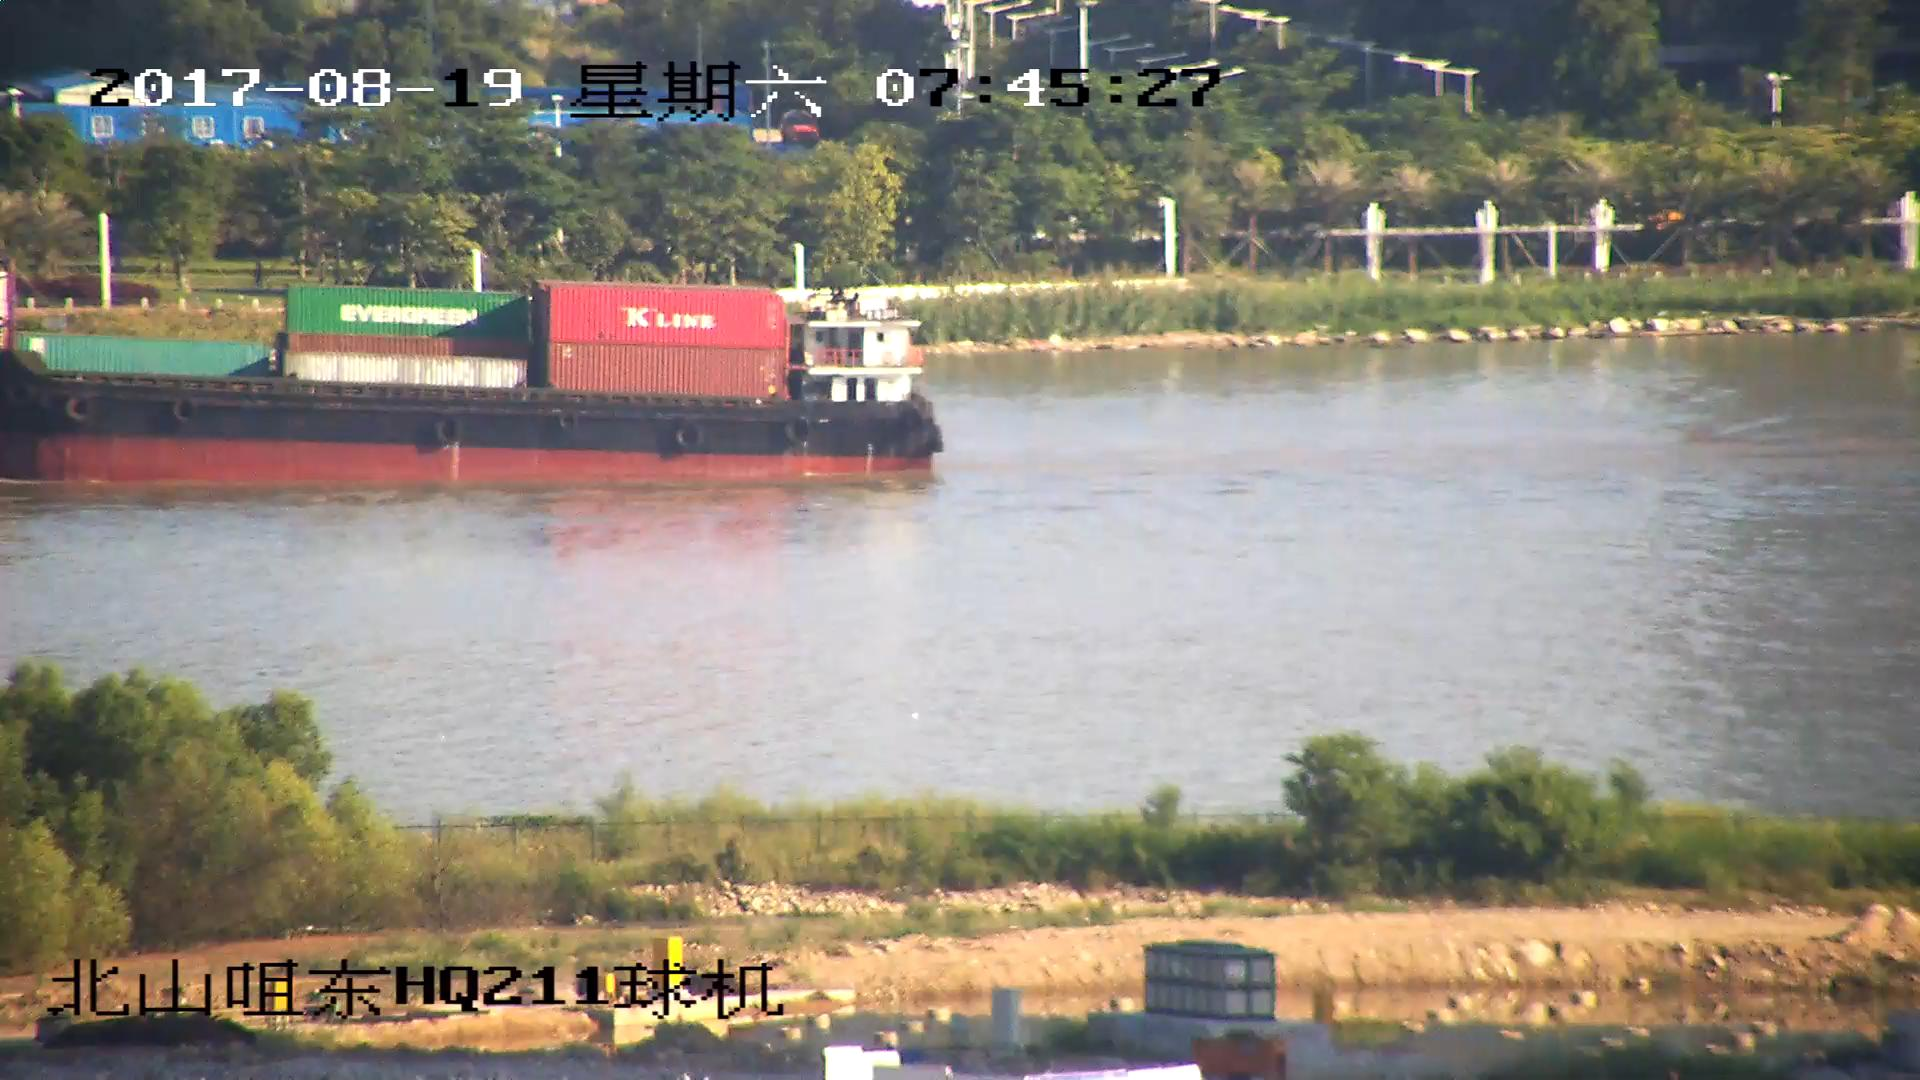container ship: (1, 275, 944, 490)
